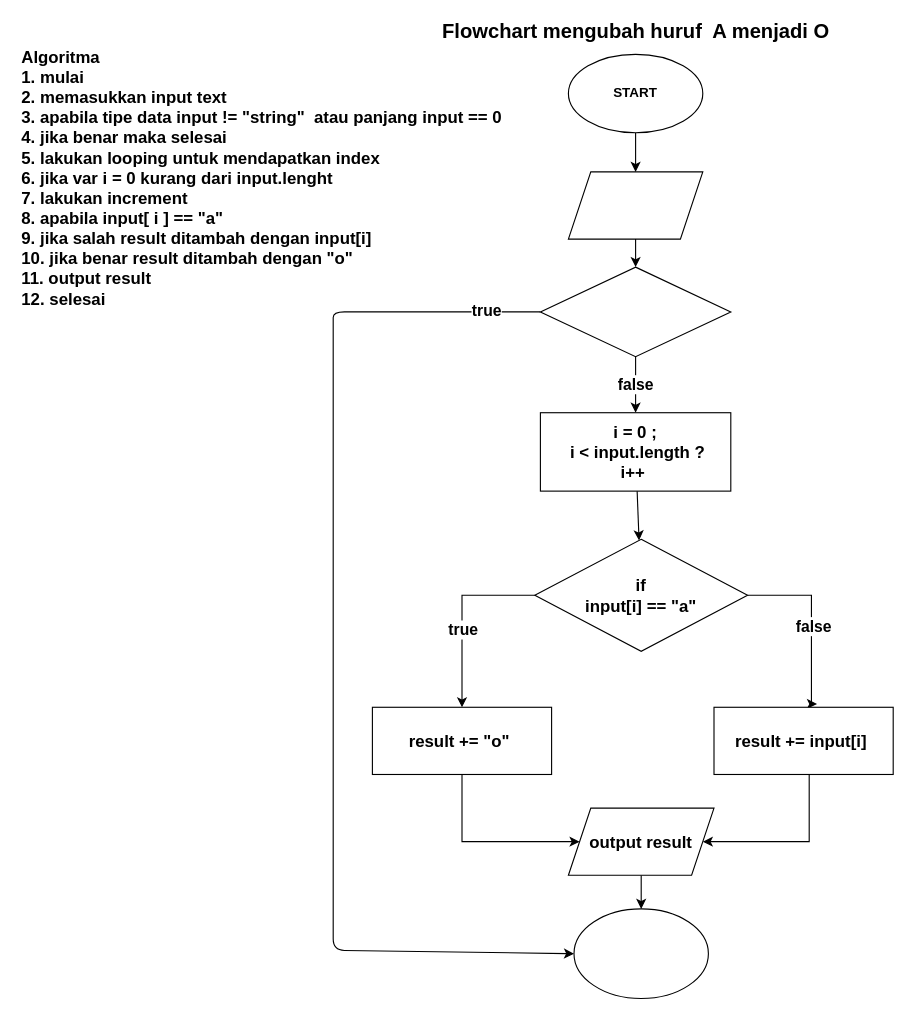
Some shapes in this 913 by 1018 pixel diagram are drawn without their labels. The centre of each missing label's shape, as x and y in pixels:
"END" belongs at (x=640, y=953).
"if typeof input != string || input.lenght == 0" belongs at (x=635, y=311).
"INPUT TEXT" belongs at (x=635, y=205).
